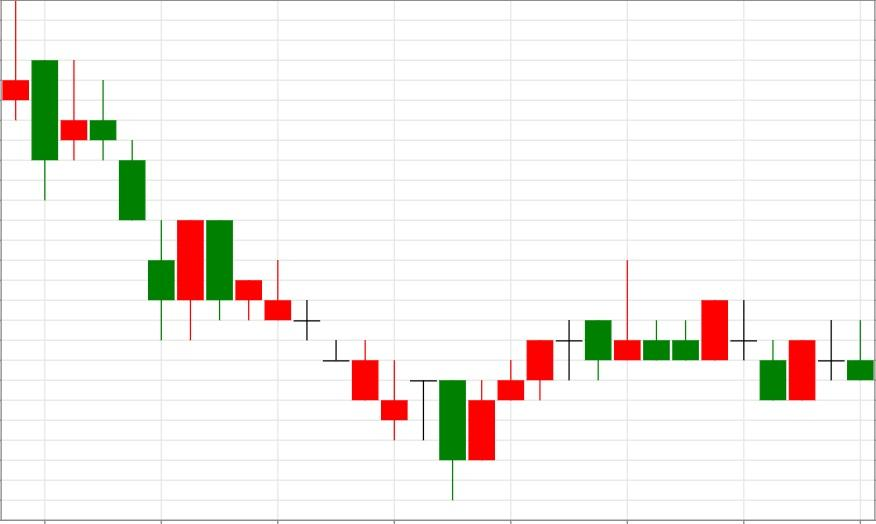bullish_engulfing_rise: (0, 0, 205, 340)
three_white_soldiers_rise: (175, 218, 555, 500)
